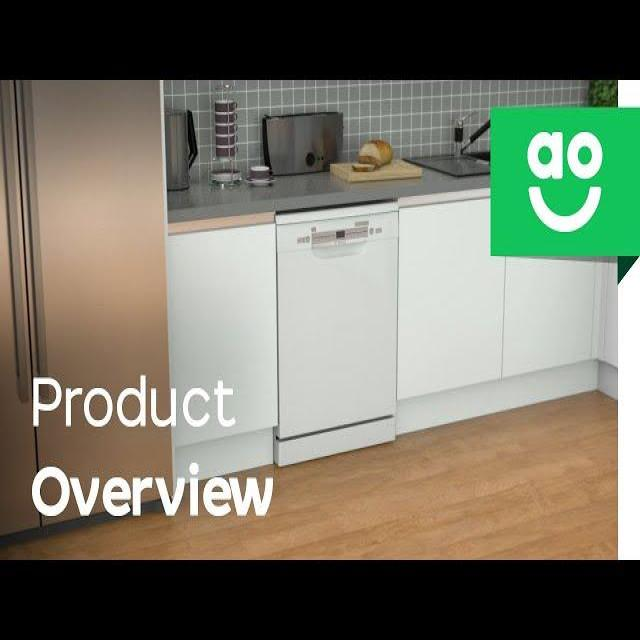dishwasher: (258, 181, 420, 474)
